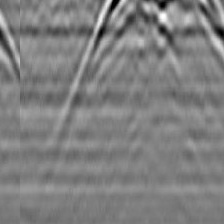Utility: (66, 0, 224, 81)
